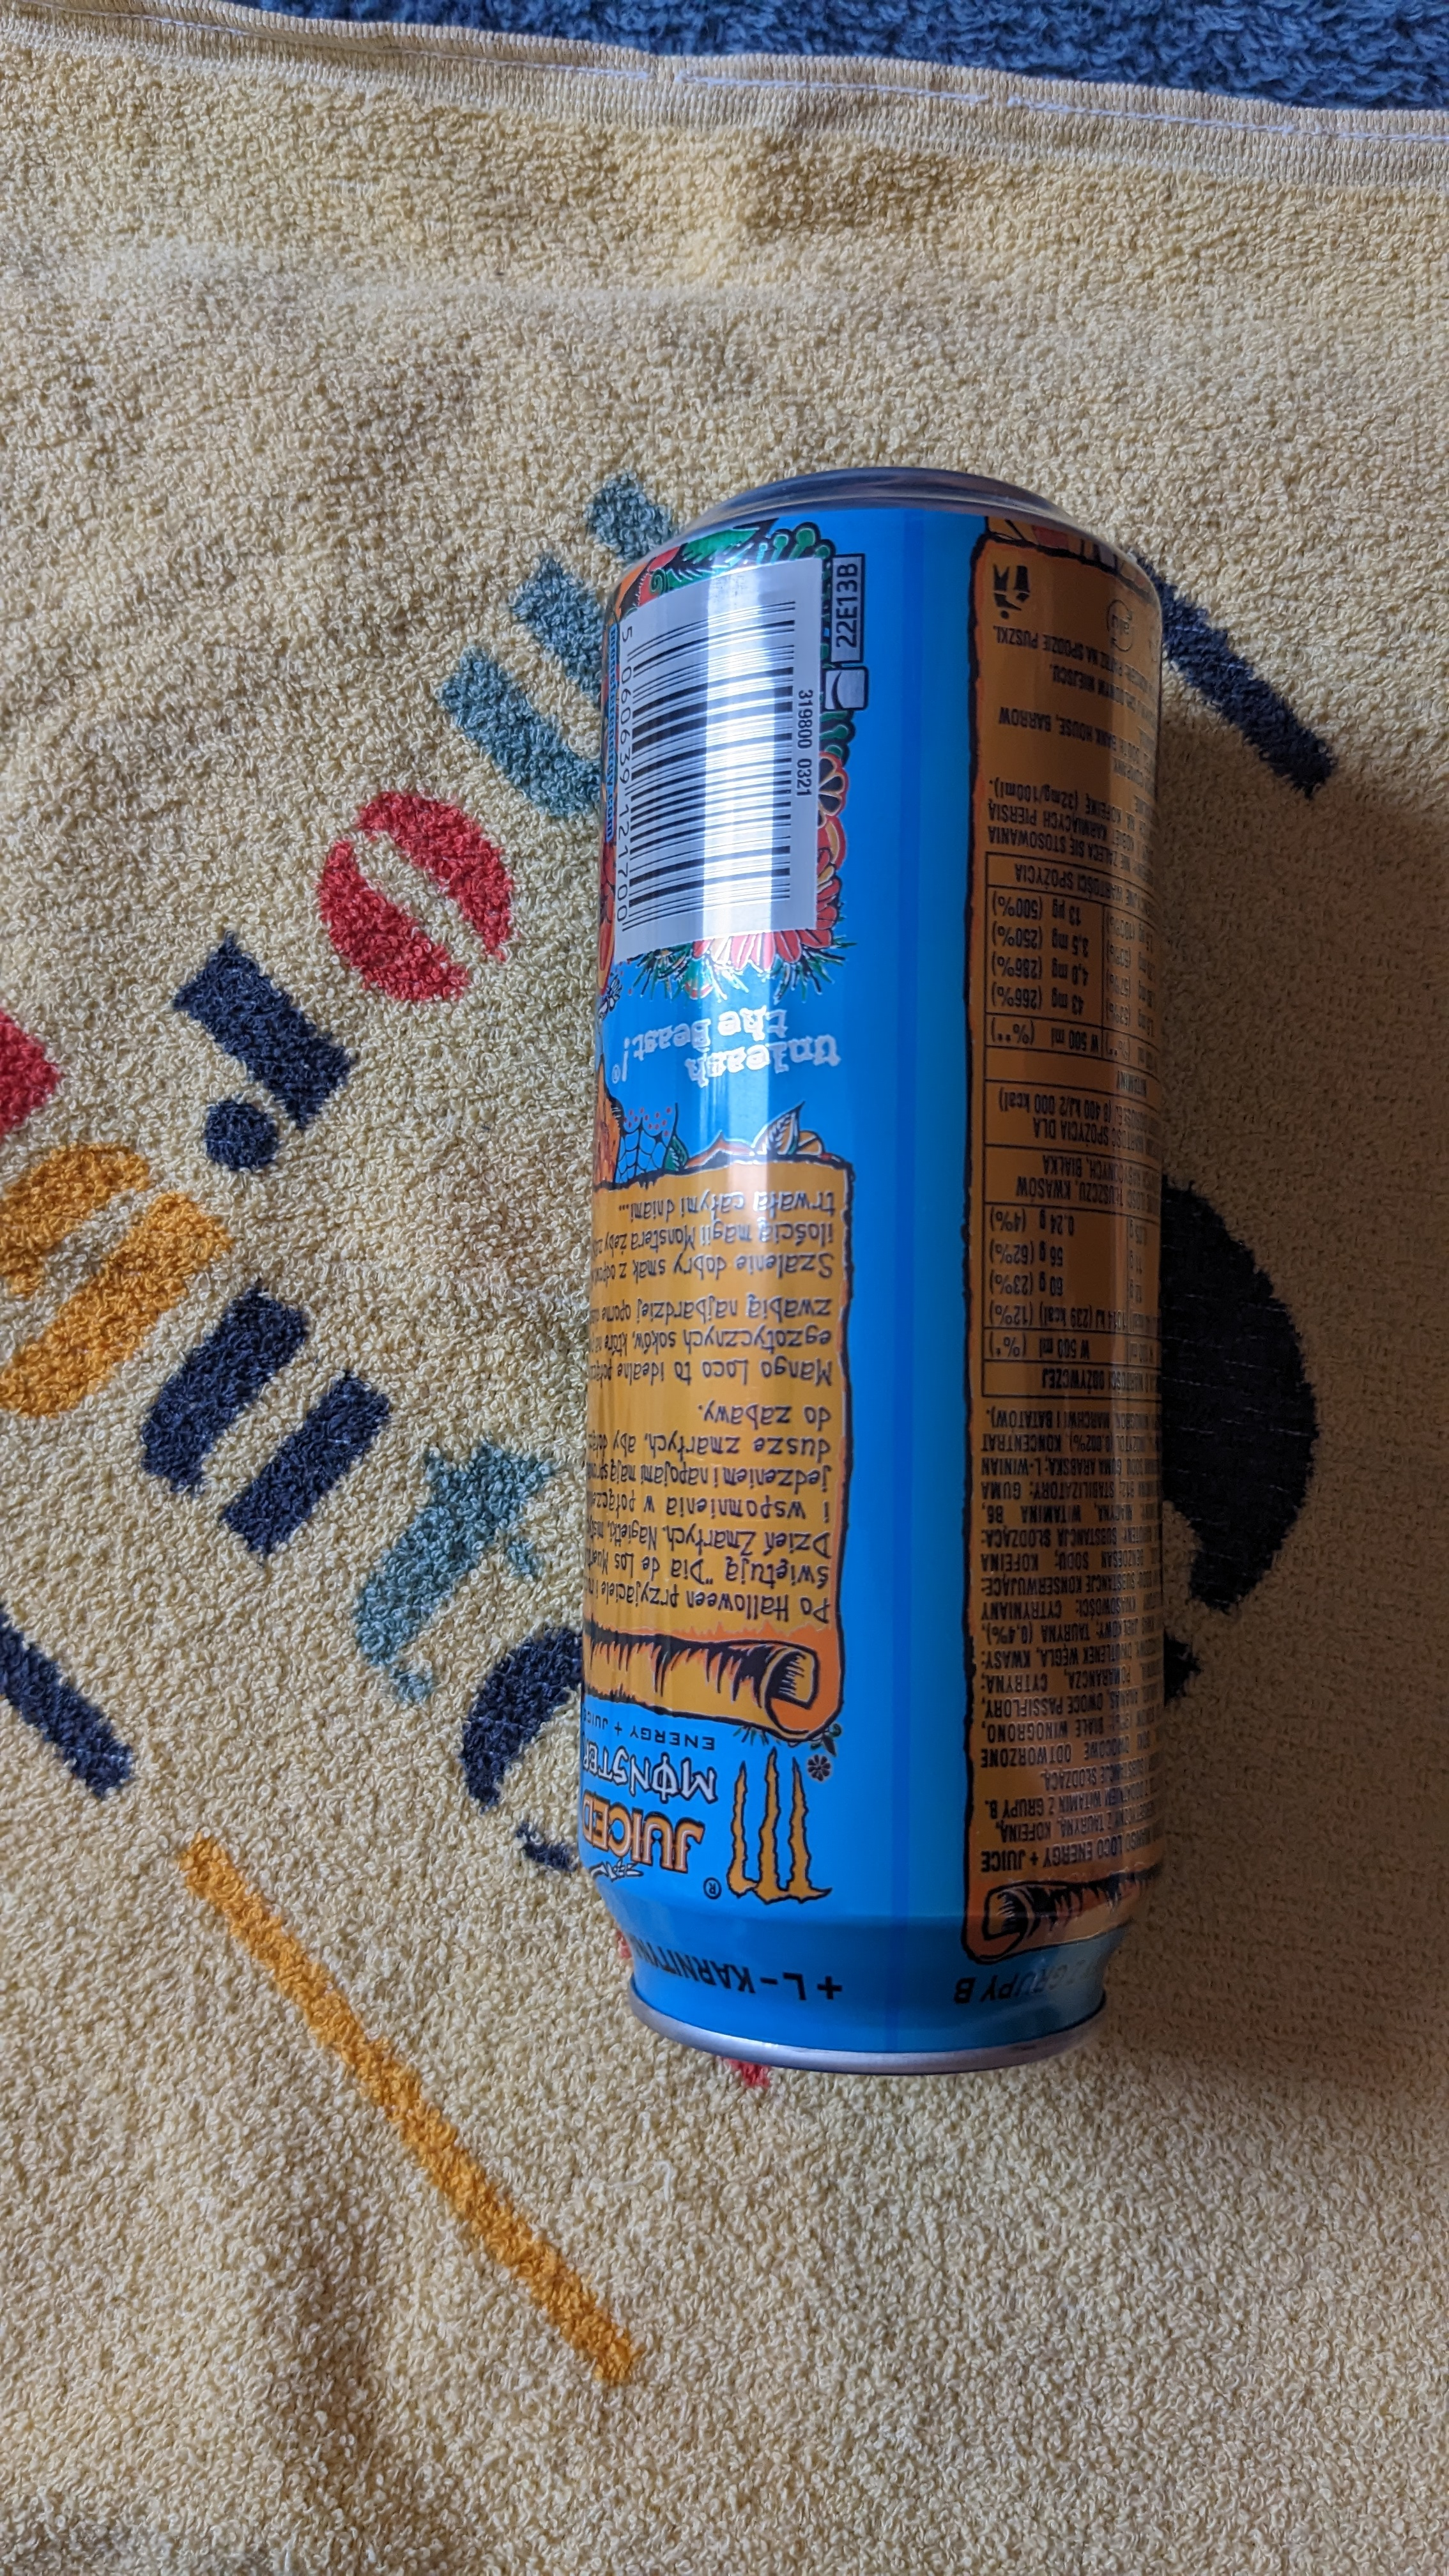monster: (527, 451, 1265, 2137)
